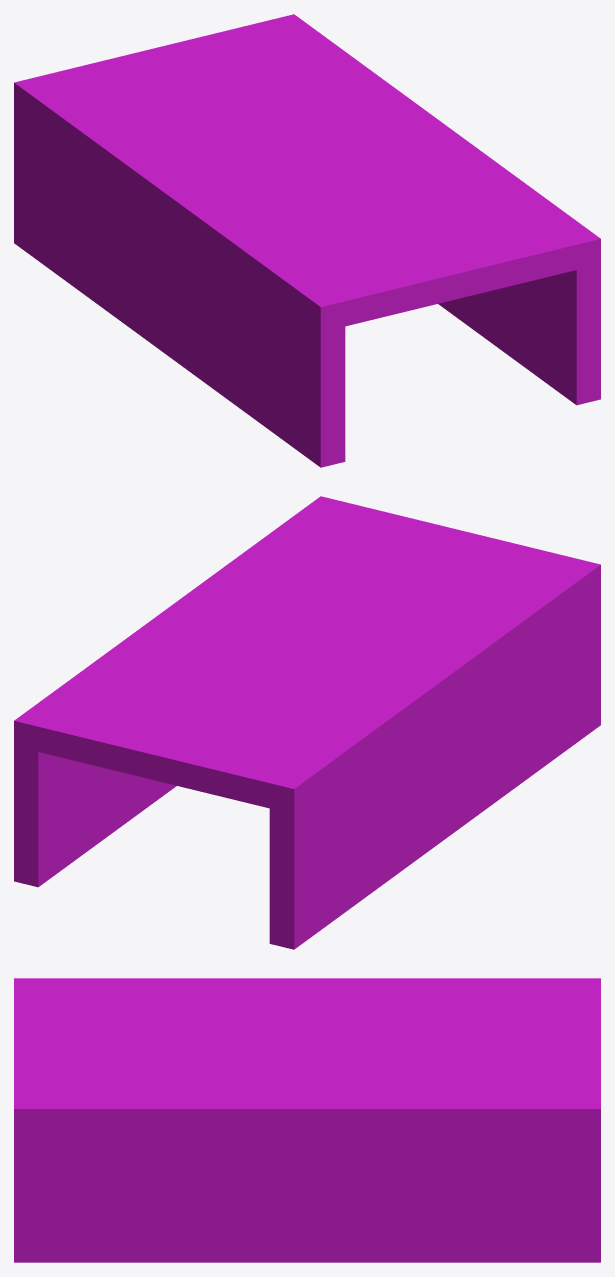
The picture shows the model from 3 angles, top to bottom: view 1: azimuth 30°, elevation 25°; view 2: azimuth 150°, elevation 25°; view 3: azimuth 270°, elevation 25°; orthographic projection. The views are drawn at different scales.
Parts seen in each view (by area): view 1: Cube; view 2: Cube; view 3: Cube.
Part boxes in pixels (x1,y1,x2,y2): Cube: [14, 14, 600, 467]; Cube: [14, 496, 600, 949]; Cube: [14, 978, 600, 1262].
Size of the model in its own units: 8.36 by 15.86 by 4.58.
